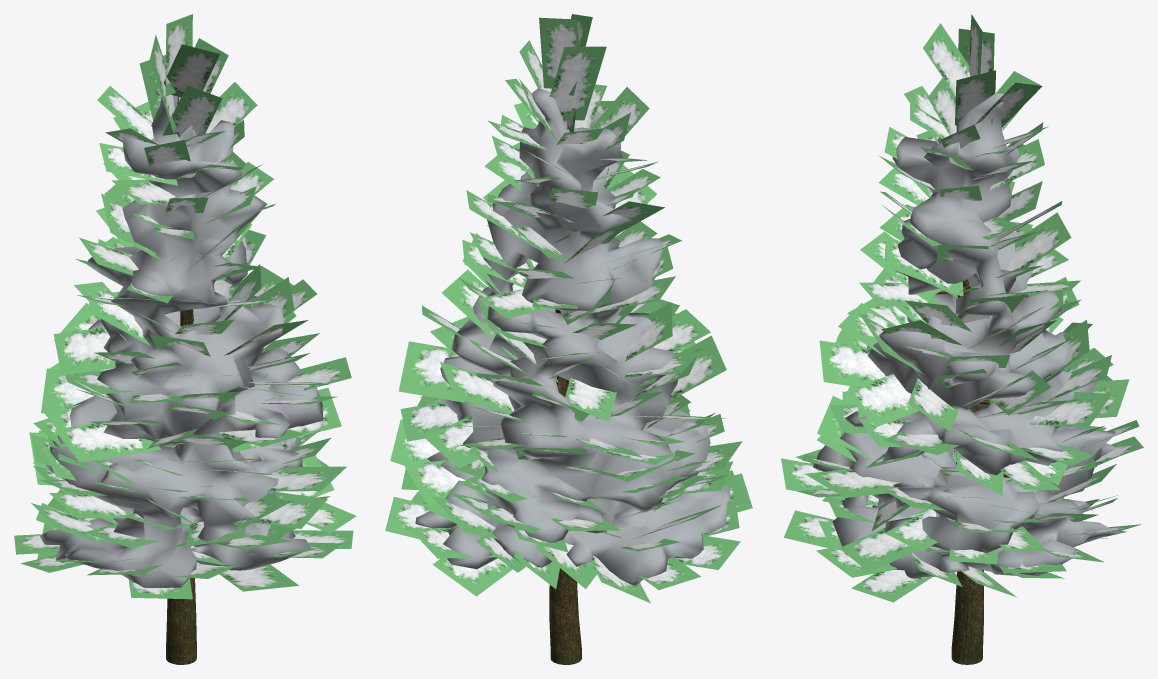
The model's file is sb_obj_nature001_Tree02c.fbx.
3 renders of one model, left to right at view 1: azimuth 30°, elevation 25°; view 2: azimuth 150°, elevation 25°; view 3: azimuth 270°, elevation 25°, orthographic.
Parts seen in each view (by area): view 1: tree02c_leaf, tree02c_snow, sb_obj_nature001_Tree02c; view 2: tree02c_leaf, tree02c_snow, sb_obj_nature001_Tree02c; view 3: tree02c_leaf, tree02c_snow, sb_obj_nature001_Tree02c.
Part boxes in pixels (x1,y1,x2,y2): tree02c_leaf: (14,14,356,599); tree02c_snow: (40,95,323,587); sb_obj_nature001_Tree02c: (166,96,196,664); tree02c_leaf: (385,14,752,603); tree02c_snow: (415,88,730,586); sb_obj_nature001_Tree02c: (549,118,581,664); tree02c_leaf: (781,14,1143,602); tree02c_snow: (810,93,1126,578); sb_obj_nature001_Tree02c: (935,279,1009,664).
Bounding box in the file's own units: 3.61 × 7.18 × 3.7.
